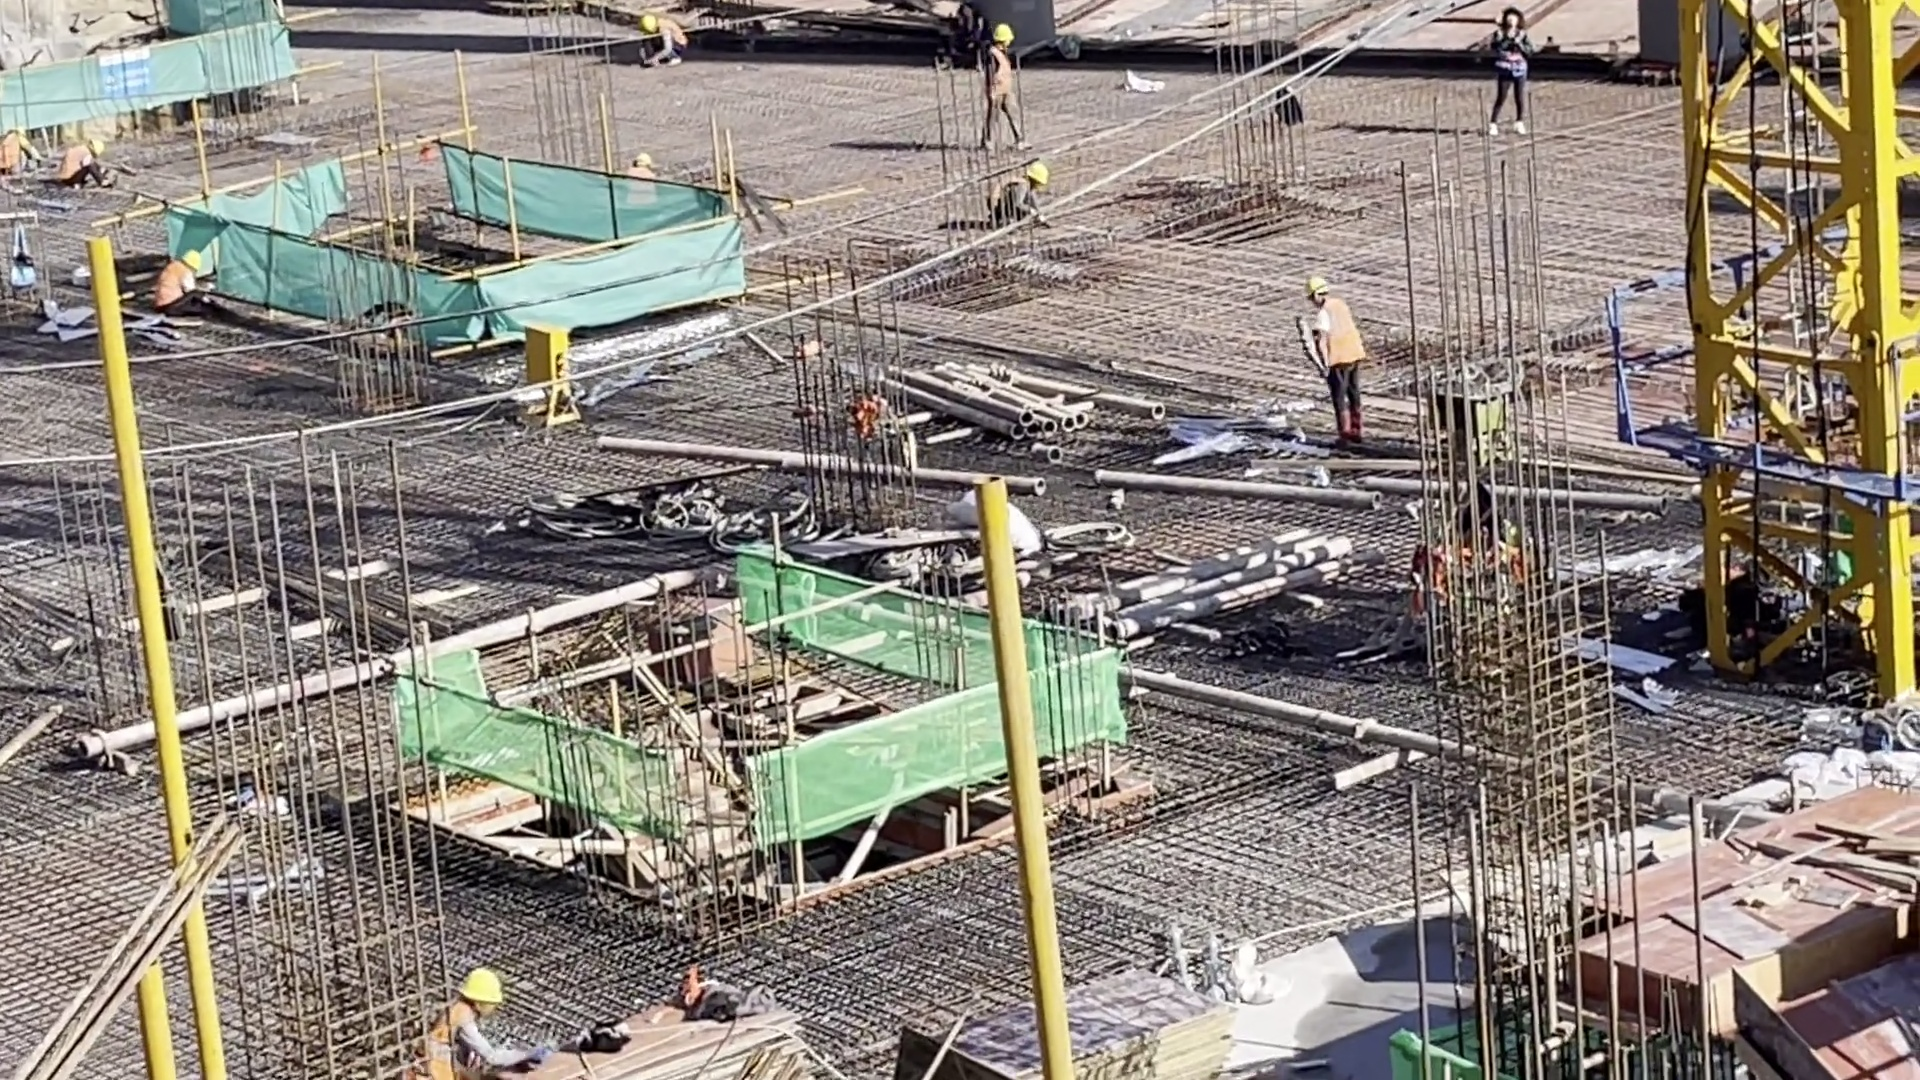board: (909, 965, 1238, 1080), (483, 987, 815, 1080)
ebox: (525, 324, 578, 428)
helmet: (461, 969, 502, 1006), (1304, 277, 1330, 295), (1025, 163, 1046, 184), (992, 25, 1012, 44), (183, 251, 200, 271), (638, 16, 656, 35), (633, 152, 650, 164), (91, 141, 103, 154)
person: (403, 967, 555, 1080), (1295, 275, 1369, 452), (980, 26, 1030, 153), (1489, 6, 1530, 142), (154, 241, 214, 330), (988, 163, 1048, 223), (633, 12, 689, 68), (60, 141, 111, 195), (3, 117, 36, 176), (627, 150, 657, 206), (954, 9, 981, 57)
slogan: (96, 50, 154, 102)
vest: (1315, 303, 1367, 373), (427, 999, 475, 1075), (154, 262, 192, 307), (987, 48, 1015, 104), (1494, 31, 1524, 76), (62, 143, 92, 186), (992, 176, 1023, 209), (3, 139, 24, 171), (663, 19, 683, 46)
